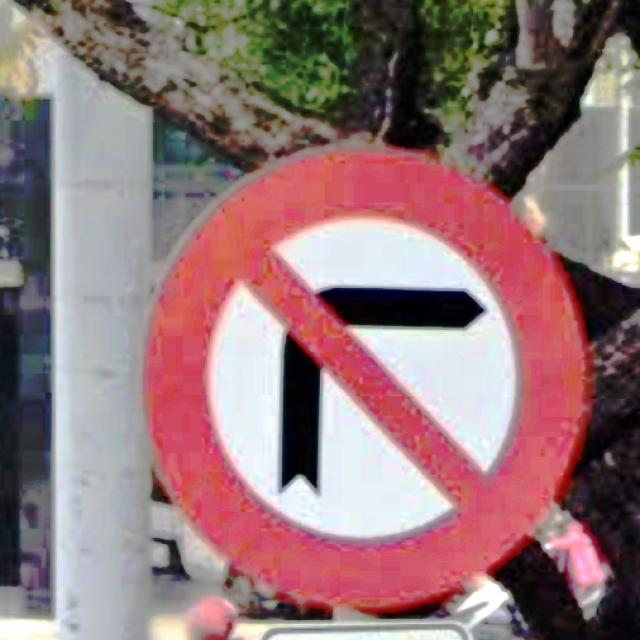noturnright: (140, 148, 588, 609)
